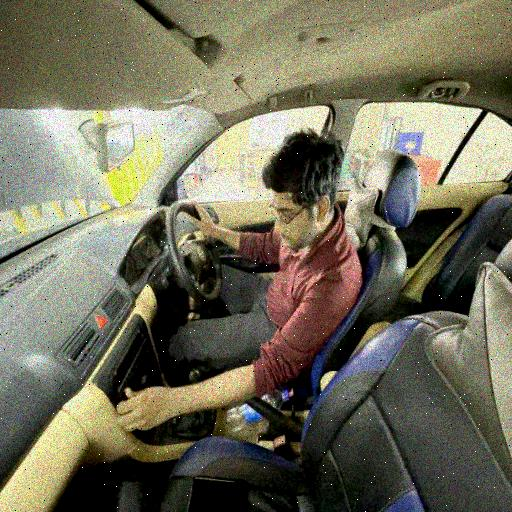operatingradio: (109, 129, 367, 440)
